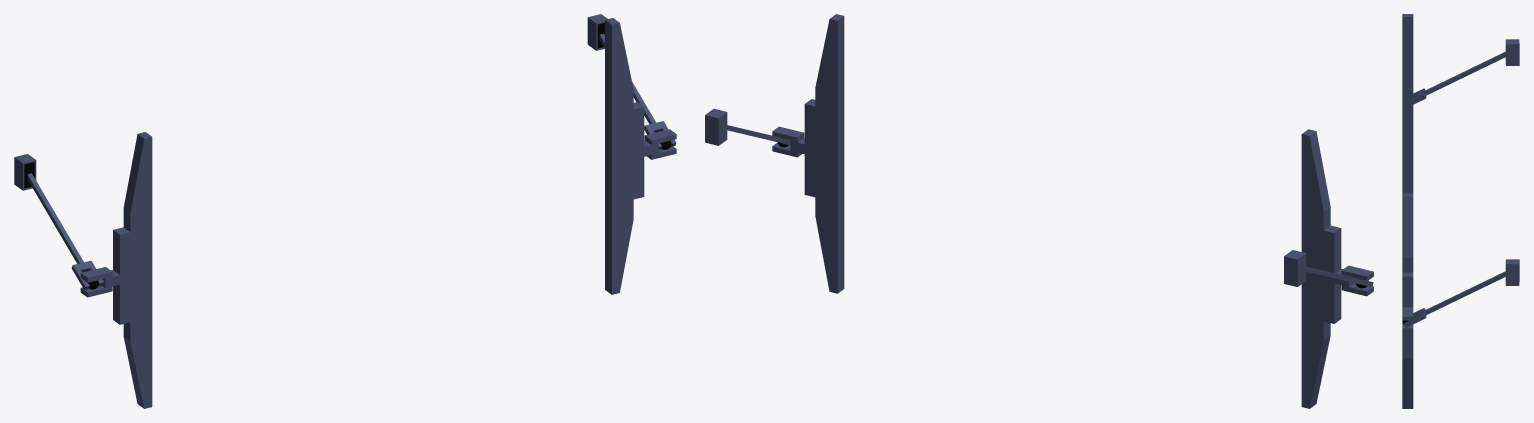
The model's file is PantallaPuzleColas.fbx.
3 views of the same model, side by side, from view 1: azimuth 30°, elevation 25°; view 2: azimuth 150°, elevation 25°; view 3: azimuth 270°, elevation 25° (orthographic). The views are drawn at different scales.
Visible parts, largest first — view 1: Cube, Cube.001, Cube.002; view 2: Cube, Cube.002, Cube.001; view 3: Cube, Cube.001, Cube.002.
Boxes of the visible parts, <box> form: Cube: <box>80,18,676,408</box>; Cube.001: <box>27,33,676,289</box>; Cube.002: <box>14,14,607,190</box>; Cube: <box>772,14,1373,408</box>; Cube.002: <box>705,108,1306,286</box>; Cube.001: <box>727,125,1373,286</box>; Cube: <box>1402,14,1413,408</box>; Cube.001: <box>1404,51,1505,327</box>; Cube.002: <box>1505,39,1519,285</box>.
Size of the model in its own units: 458 by 200 by 99.84.
